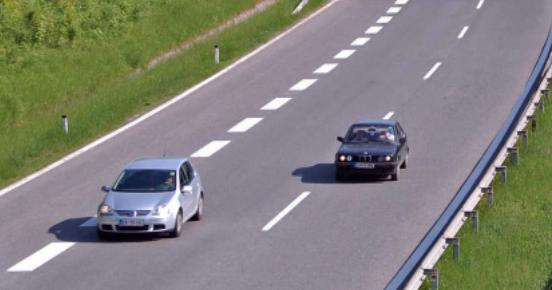car: (91, 150, 209, 257), (330, 111, 422, 192)
